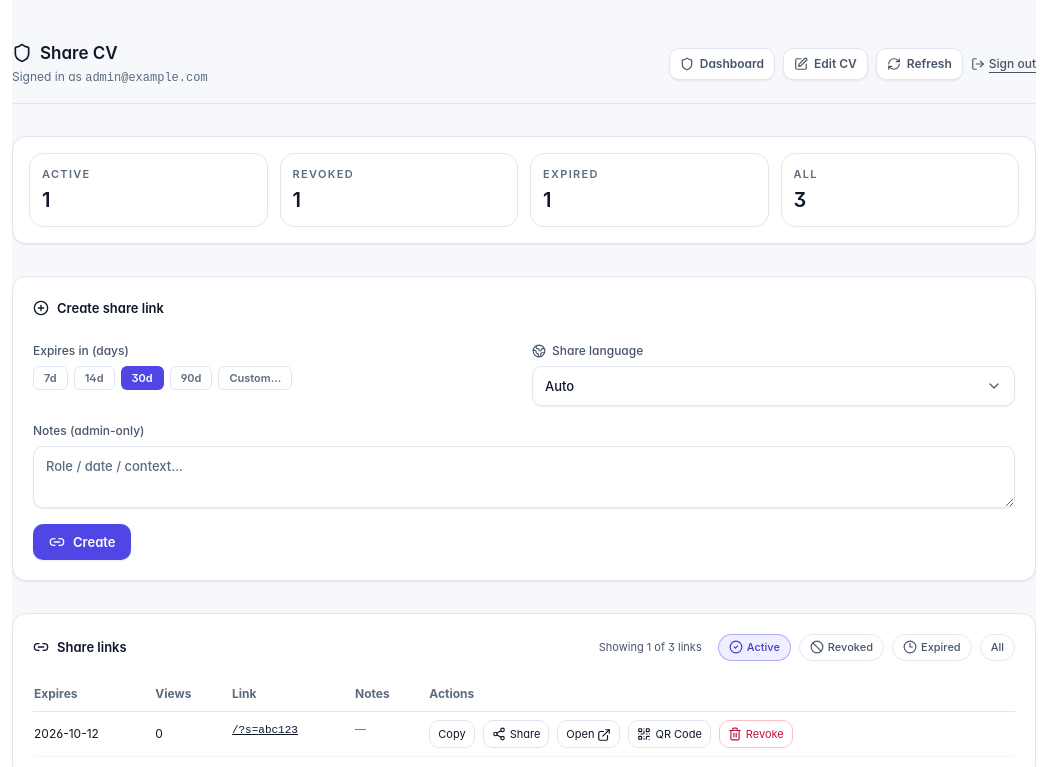
Test: AdminShareRoute › filters with single-select controls and syncs status in URL
This screenshot has width=1048, height=767.
Step 1. Click the button "All" → (997, 647), box left=980, top=634, right=1015, bottom=660
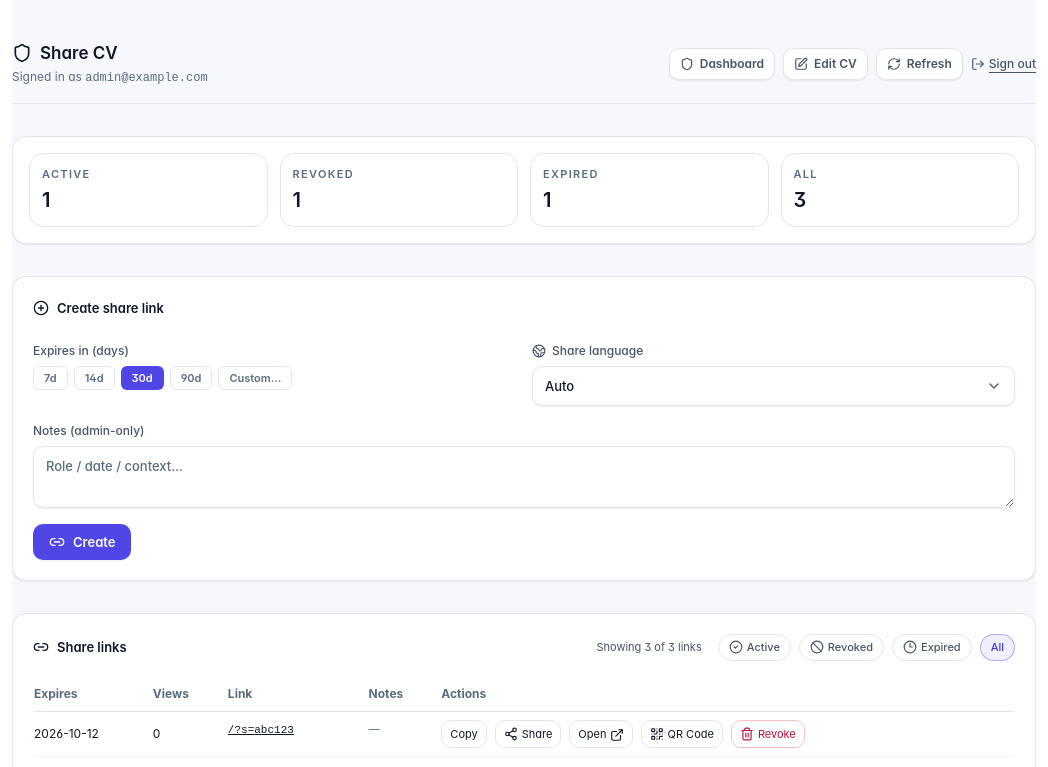
Result: the text "Showing 3 of 3 links" is shown at left=596, top=639, right=702, bottom=656
